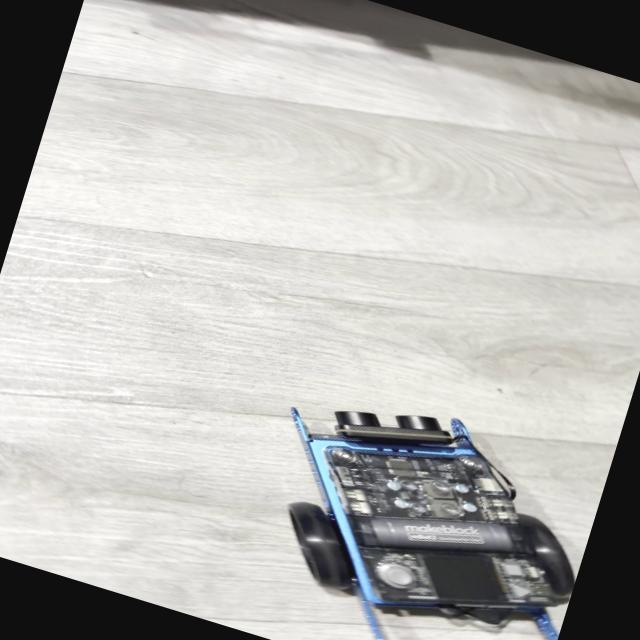mbot-detection: (209, 361, 611, 640)
